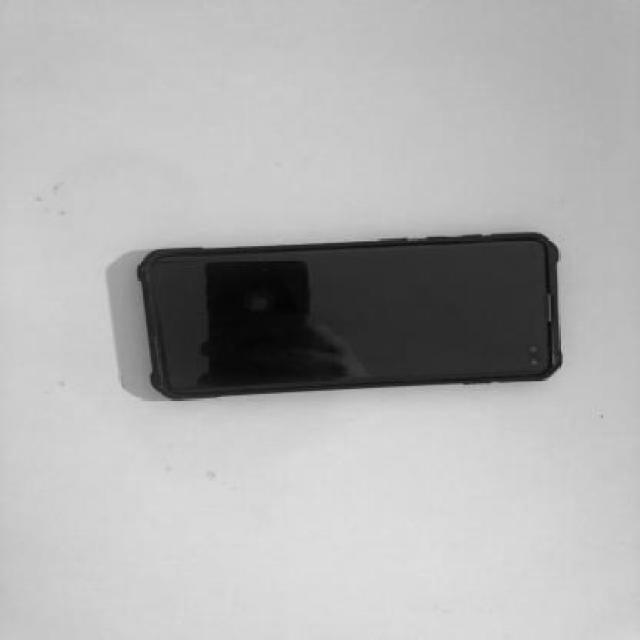fake: (136, 230, 566, 401)
